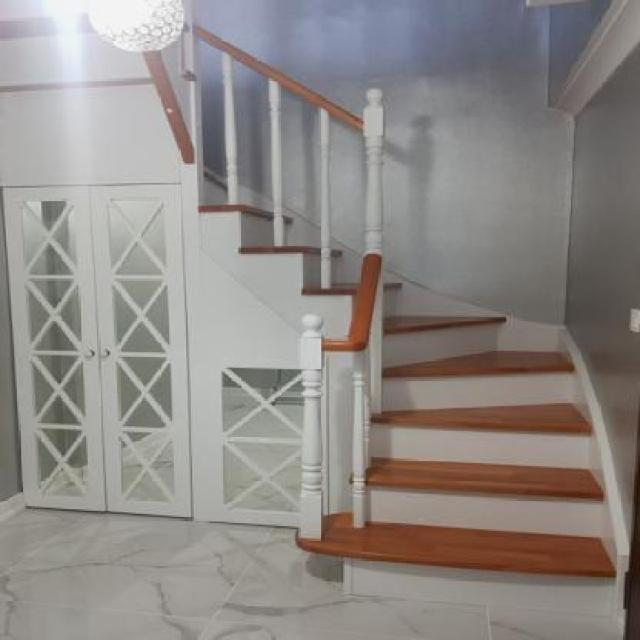stair: (242, 195, 616, 588)
